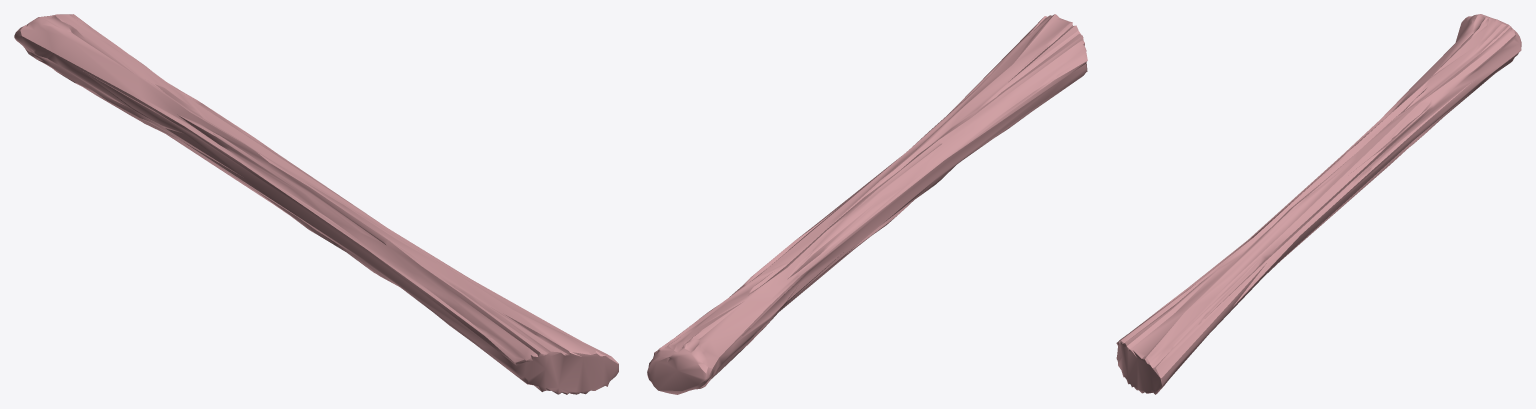
File: fma55245_fj2805.glb
3 views of the same model, side by side, from view 1: azimuth 30°, elevation 25°; view 2: azimuth 150°, elevation 25°; view 3: azimuth 330°, elevation 25° (orthographic). The views are drawn at different scales.
Visible parts, largest first — view 1: FMA55245_FJ2805; view 2: FMA55245_FJ2805; view 3: FMA55245_FJ2805.
Part boxes in pixels (bbox=[...]): FMA55245_FJ2805: bbox=[14, 14, 618, 394]; FMA55245_FJ2805: bbox=[647, 14, 1087, 394]; FMA55245_FJ2805: bbox=[1116, 14, 1521, 394].
Bounding box in the file's own units: 0.00218 × 0.00099 × 0.0133.
